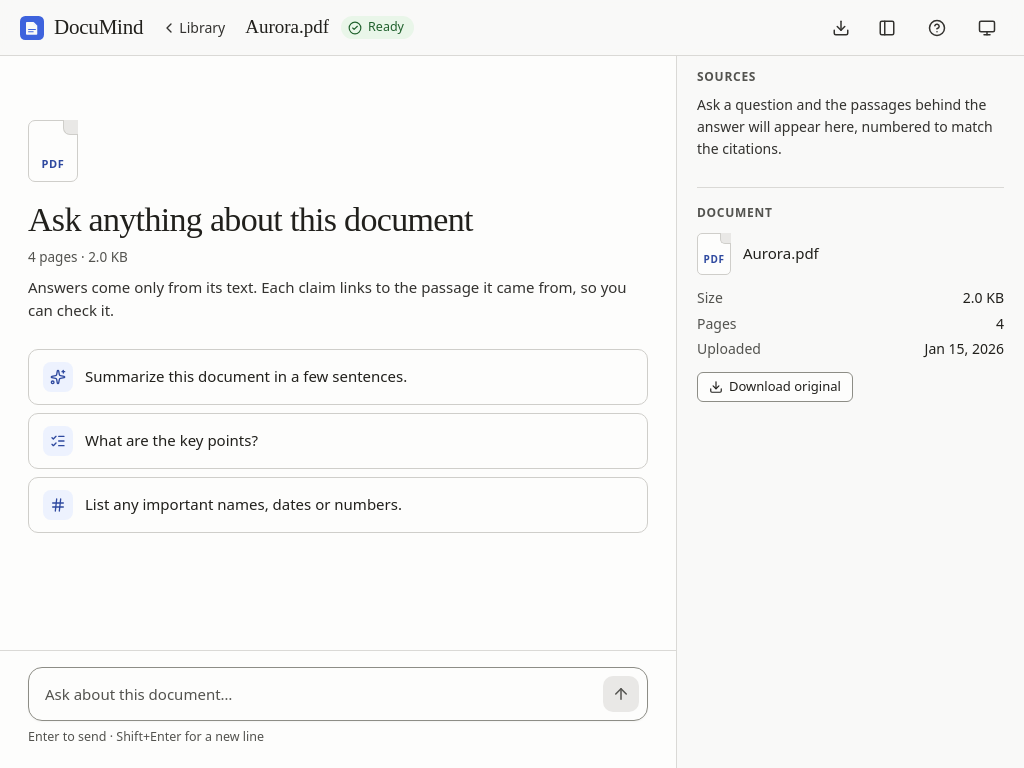
page preview › offers no preview for files without real pages
Type "q" into the text box named "ask a question" at (320, 694), box [45, 677, 595, 712]
Then press Enter
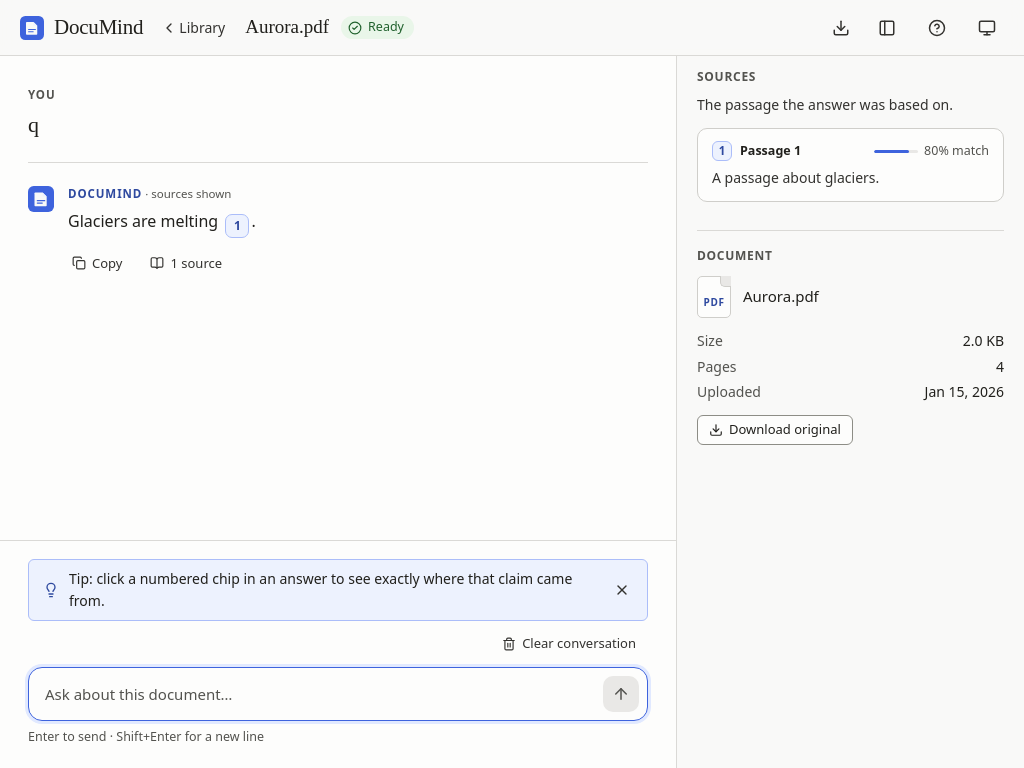
Now the button named "Source 1" is shown, box [225, 214, 249, 238]
Now the text "Passage 1" is shown, box [740, 142, 801, 159]
